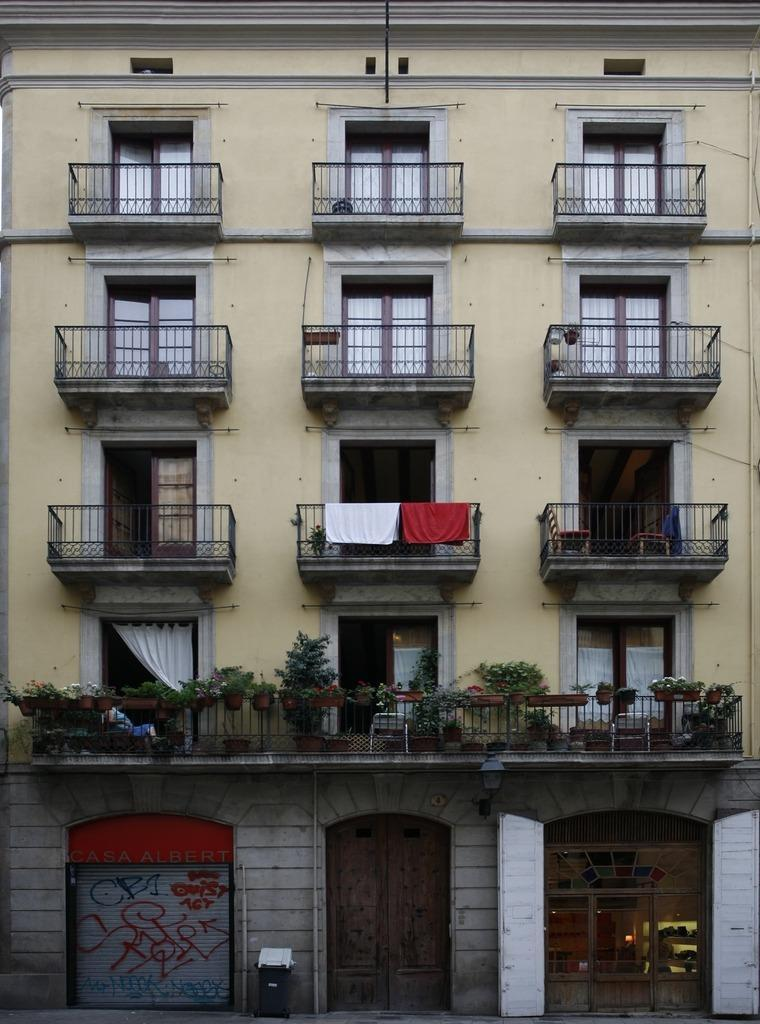window: (577, 615, 674, 739), (340, 617, 437, 741), (100, 618, 197, 742), (339, 442, 437, 558), (101, 440, 198, 556), (579, 439, 674, 557), (103, 276, 196, 380), (342, 275, 435, 378), (580, 275, 672, 379), (109, 120, 195, 215), (346, 120, 432, 215), (582, 122, 668, 217), (130, 58, 175, 75), (603, 59, 648, 76), (367, 57, 376, 75), (400, 58, 409, 75)
